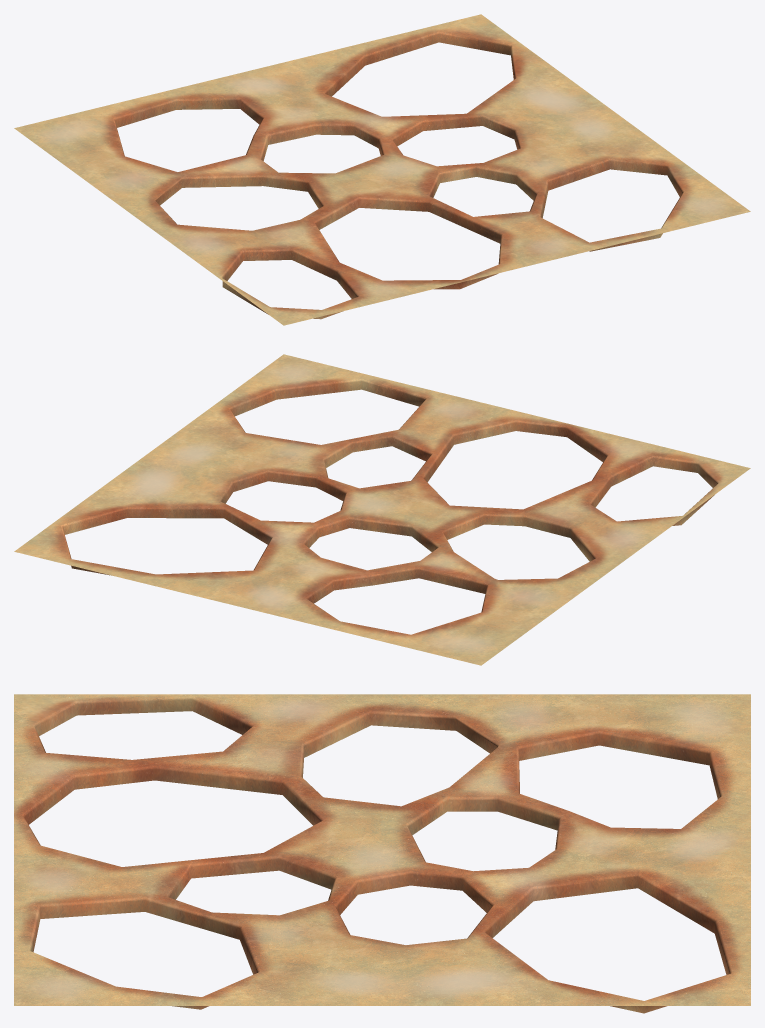
Rendered from zoutvlakte_xpV3.fbx.
The picture shows the model from 3 angles, top to bottom: view 1: azimuth 30°, elevation 25°; view 2: azimuth 150°, elevation 25°; view 3: azimuth 270°, elevation 25°; orthographic projection. The views are drawn at different scales.
Visible parts, largest first — view 1: zoutvlakte; view 2: zoutvlakte; view 3: zoutvlakte.
Part boxes in pixels (x1=…): zoutvlakte: x1=14, y1=14, x2=750, y2=325; zoutvlakte: x1=14, y1=354, x2=750, y2=665; zoutvlakte: x1=14, y1=694, x2=750, y2=1013.
Size of the model in its own units: 100 by 2.09 by 100.
